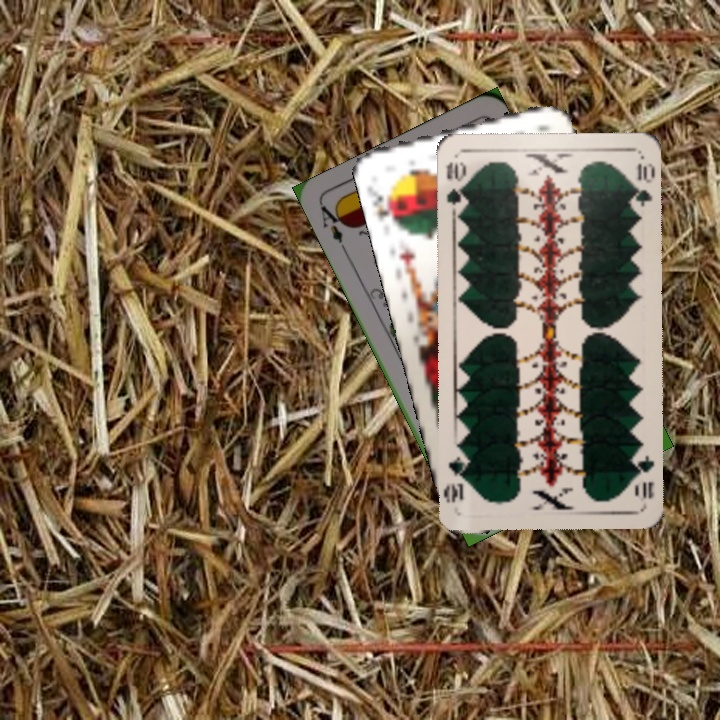EA: (316, 200, 350, 255)
G10: (630, 445, 657, 501), (443, 157, 469, 215)
SK: (368, 184, 402, 228)
